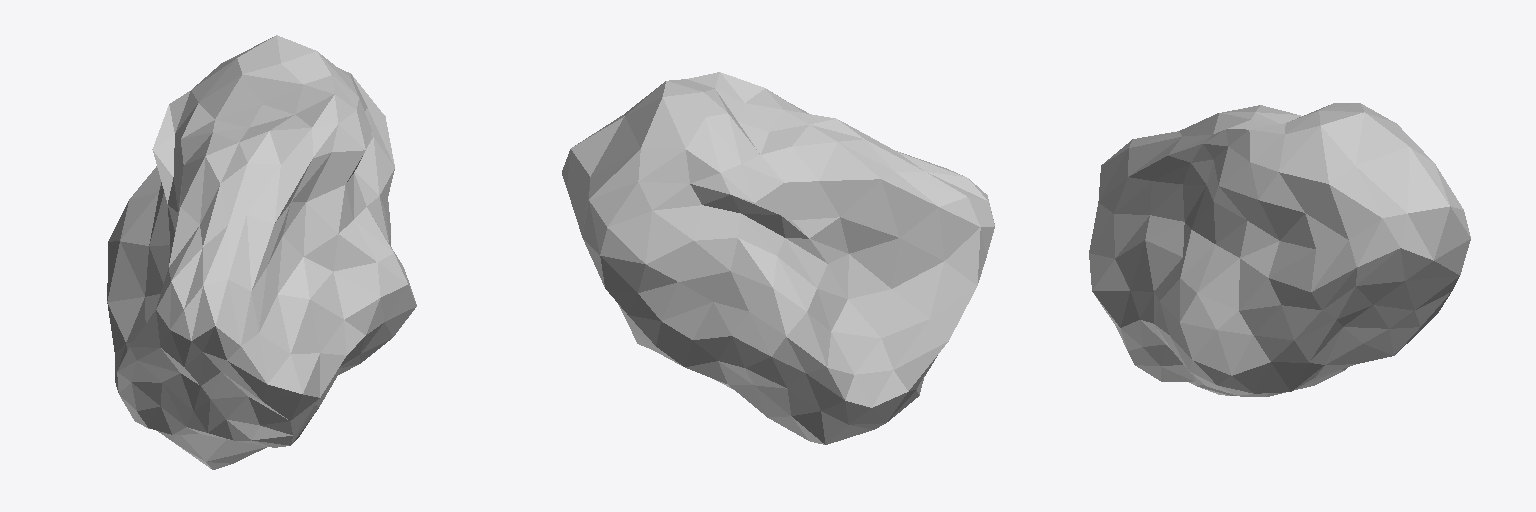
Rendered from asteroid25.obj.
The picture shows the model from 3 angles: view 1: azimuth 30°, elevation 25°; view 2: azimuth 150°, elevation 25°; view 3: azimuth 270°, elevation 25°; orthographic projection.
Parts seen in each view (by area): view 1: asteroid; view 2: asteroid; view 3: asteroid.
Boxes of the visible parts, x1,y1,x2,y2 form: asteroid: [107, 35, 416, 469]; asteroid: [562, 72, 994, 444]; asteroid: [1089, 103, 1470, 396].
Size of the model in its own units: 52.27 by 51.89 by 51.48.